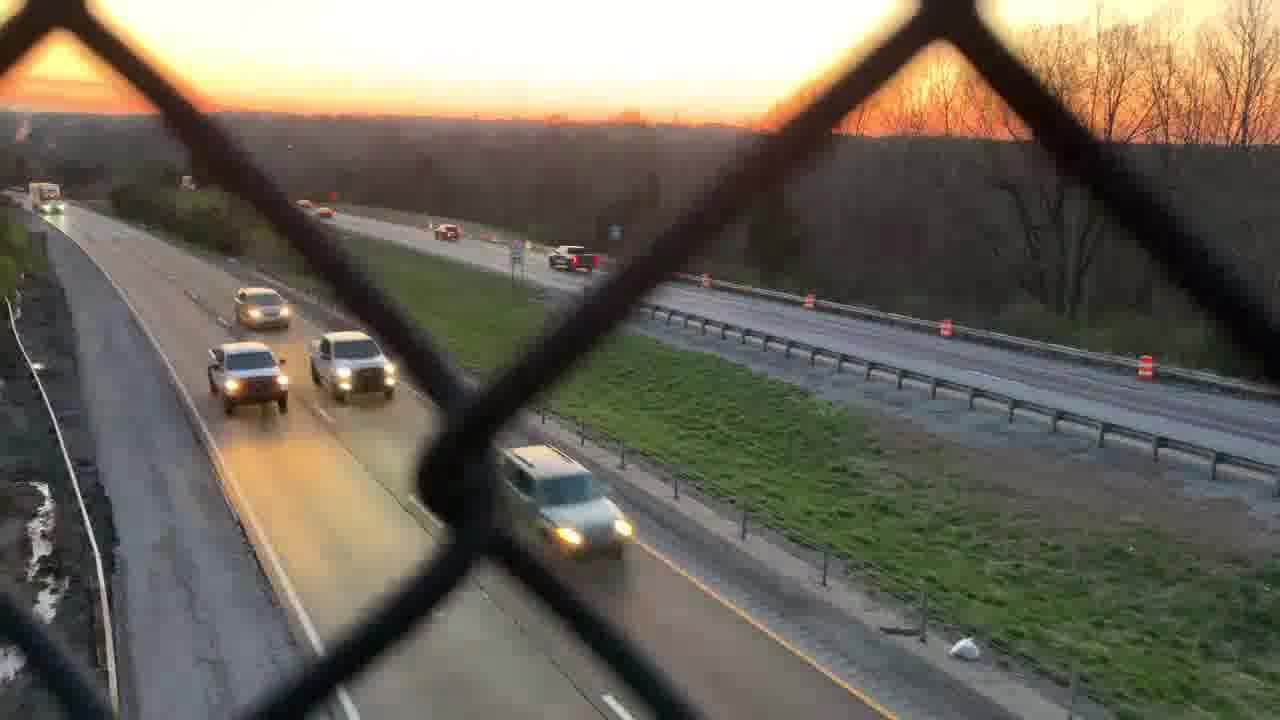heavyTruck: (25, 179, 66, 217)
largeCar: (493, 437, 636, 569), (235, 286, 290, 332)
lightTruck: (205, 338, 297, 426), (303, 326, 405, 404), (544, 246, 606, 271)
vehicle: (428, 217, 459, 244), (311, 206, 340, 222), (295, 197, 315, 207)
